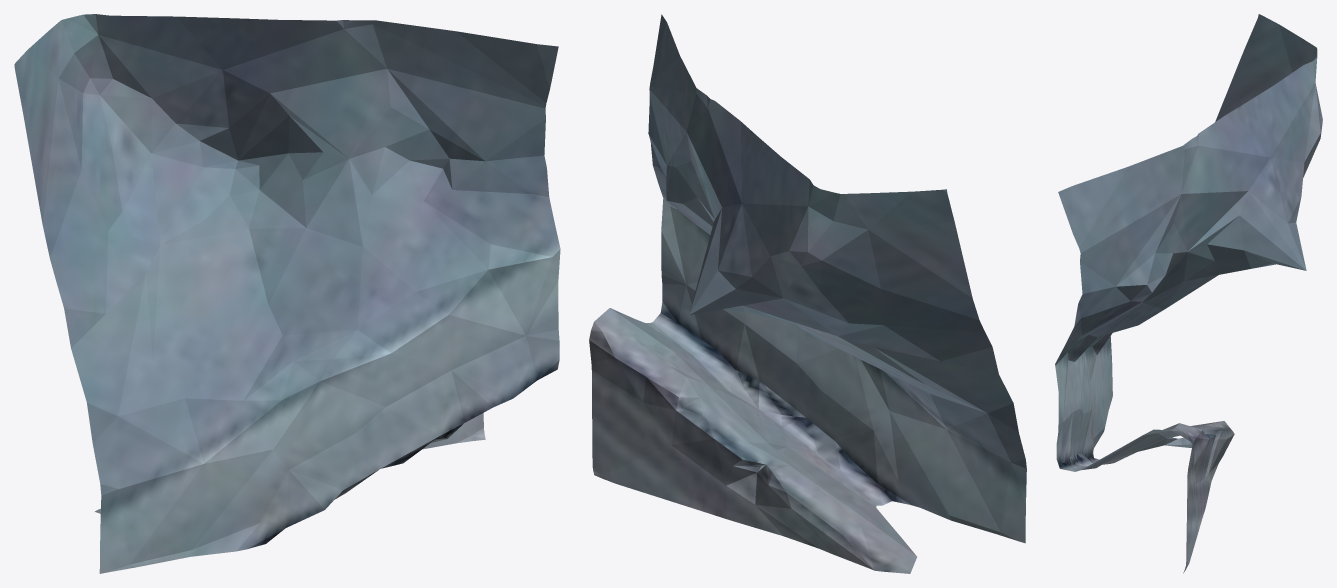
File: Tile_+004_+007_L24_0012102.obj
3 views of the same model, side by side, from view 1: azimuth 30°, elevation 25°; view 2: azimuth 150°, elevation 25°; view 3: azimuth 270°, elevation 25° (orthographic). The views are drawn at different scales.
Bounding box in the file's own units: 0.9531 × 0.9531 × 0.606.
1 material, 1 textured.
